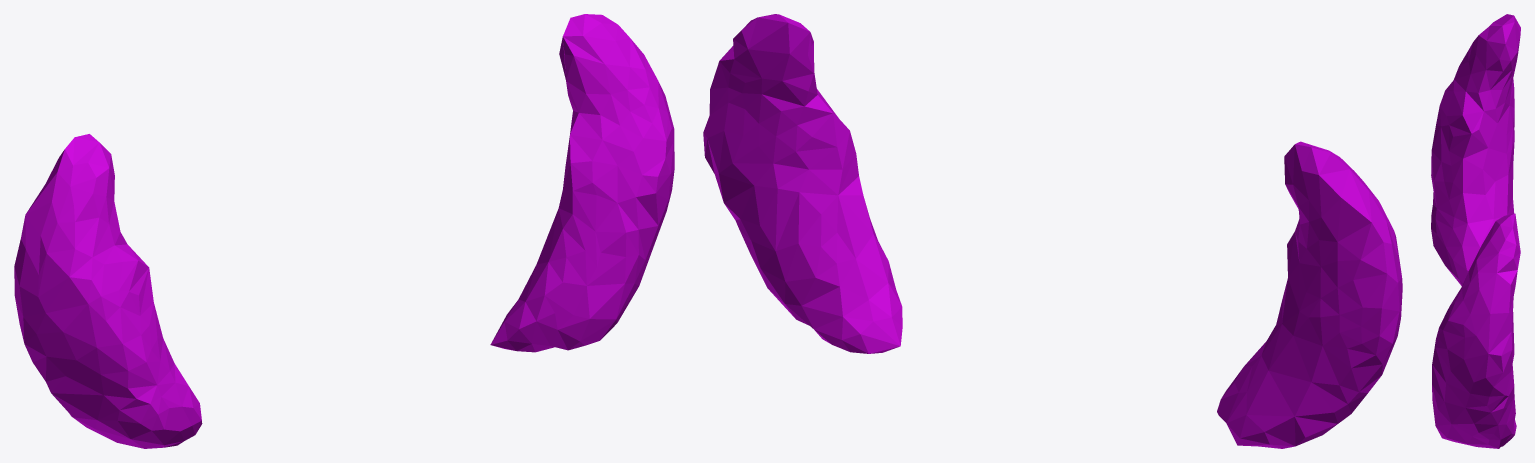
File: 191-VLL-ventral lateral thalamic nucleus, lateral part-('0.9216', '0.0000', '1.0000').obj
3 renders of one model, left to right at view 1: azimuth 30°, elevation 25°; view 2: azimuth 150°, elevation 25°; view 3: azimuth 270°, elevation 25°, orthographic. The views are drawn at different scales.
Bounding box in the file's own units: 122 × 54.95 × 17.94.
